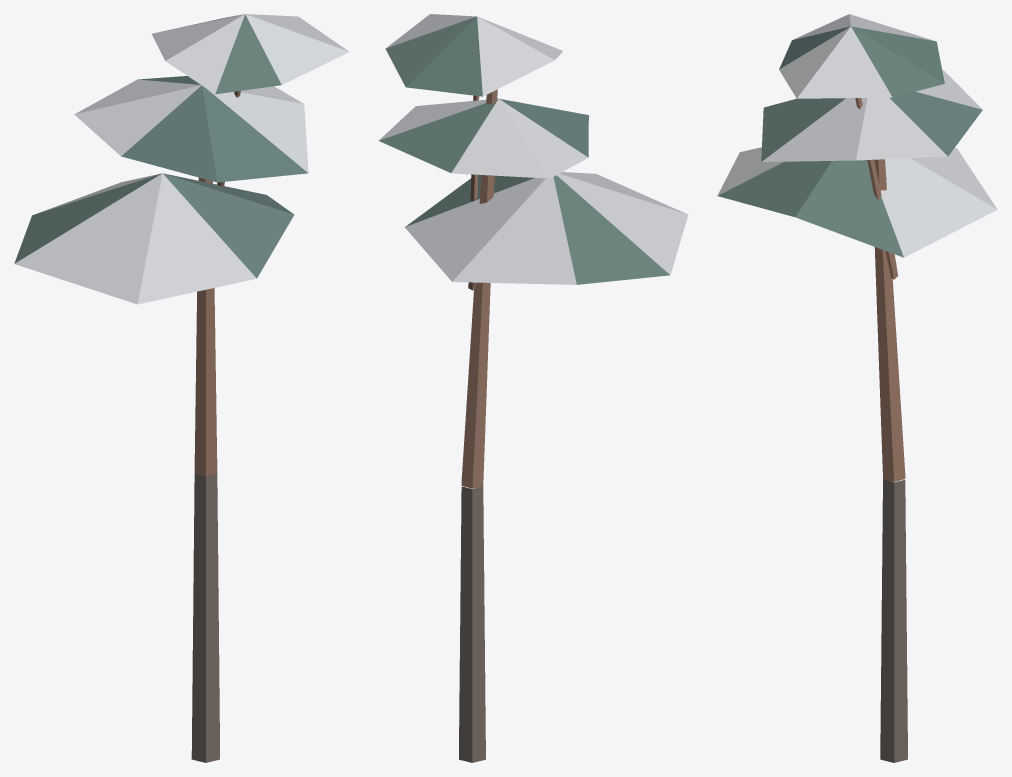
The model's file is manty_2.glb.
3 renders of one model, left to right at view 1: azimuth 30°, elevation 25°; view 2: azimuth 150°, elevation 25°; view 3: azimuth 270°, elevation 25°, orthographic. The views are drawn at different scales.
Parts seen in each view (by area): view 1: manty_2; view 2: manty_2; view 3: manty_2.
Part boxes in pixels (x1,y1,x2,y2): manty_2: (14,14,349,762); manty_2: (379,14,688,762); manty_2: (717,14,997,762).
Bounding box in the file's own units: 4.15 × 10.18 × 3.5.
